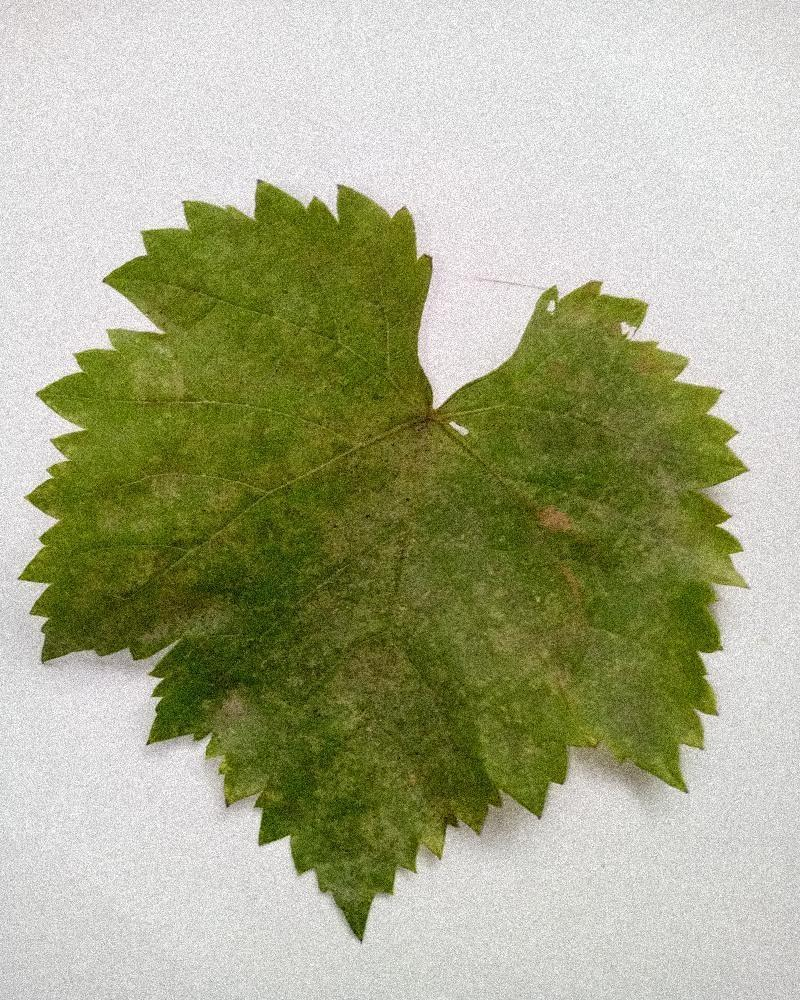Powdery-Mildew: (219, 452, 526, 847), (482, 463, 743, 761), (421, 301, 662, 471), (102, 330, 320, 513)
